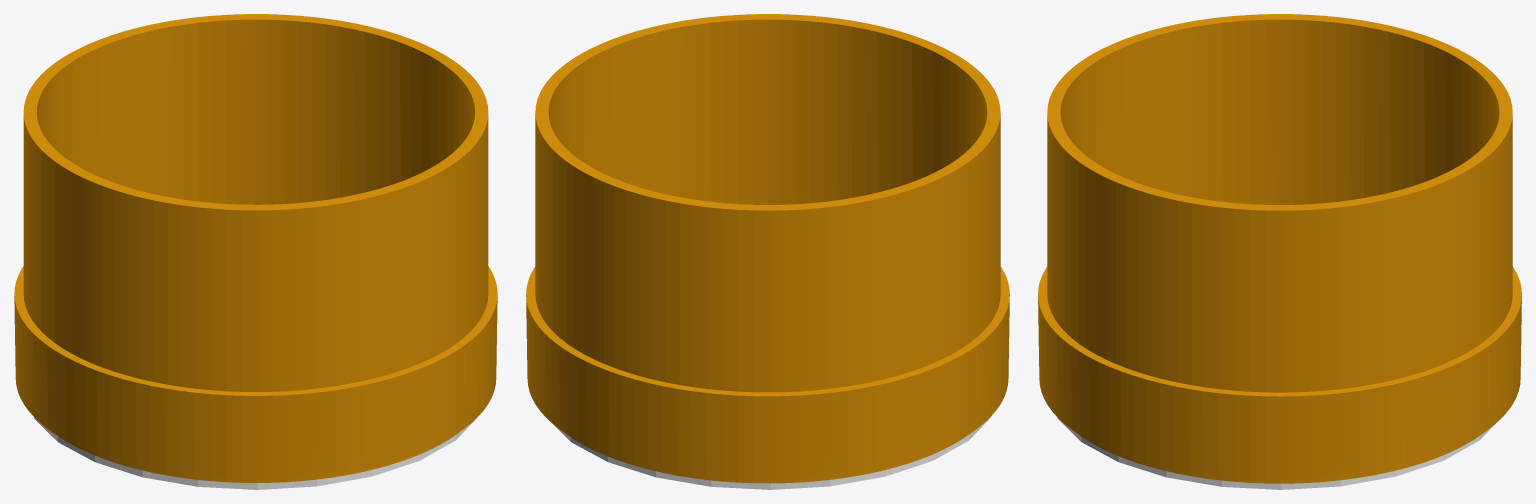
File: TOP_mule.dae
3 views of the same model, side by side, from view 1: azimuth 30°, elevation 25°; view 2: azimuth 150°, elevation 25°; view 3: azimuth 270°, elevation 25° (orthographic).
Visible parts, largest first — view 1: TOP.002; view 2: TOP.002; view 3: TOP.002.
Boxes of the visible parts, x1,y1,x2,y2 form: TOP.002: (14, 14, 497, 489); TOP.002: (526, 14, 1009, 489); TOP.002: (1038, 14, 1521, 489).
Size of the model in its own units: 0.366 by 0.366 by 0.2343.
